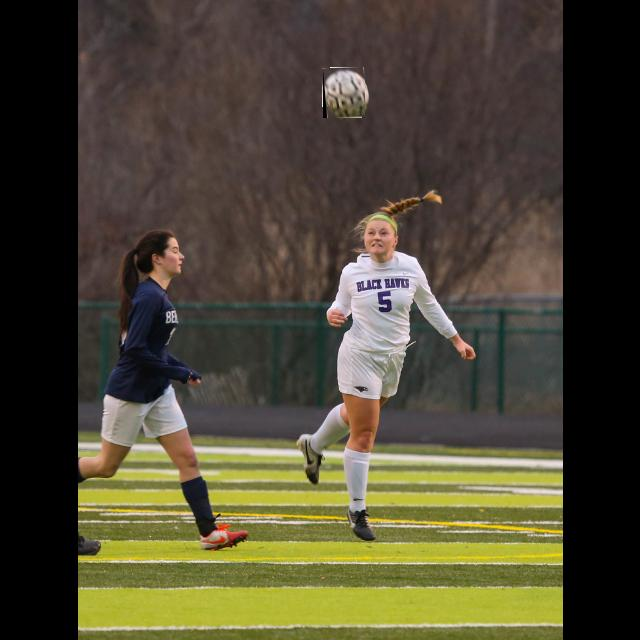Football: (323, 68, 365, 118)
